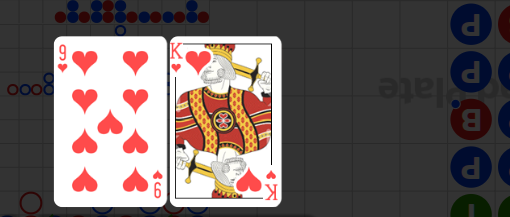9H: (56, 43, 70, 75)
KH: (264, 169, 279, 202)
